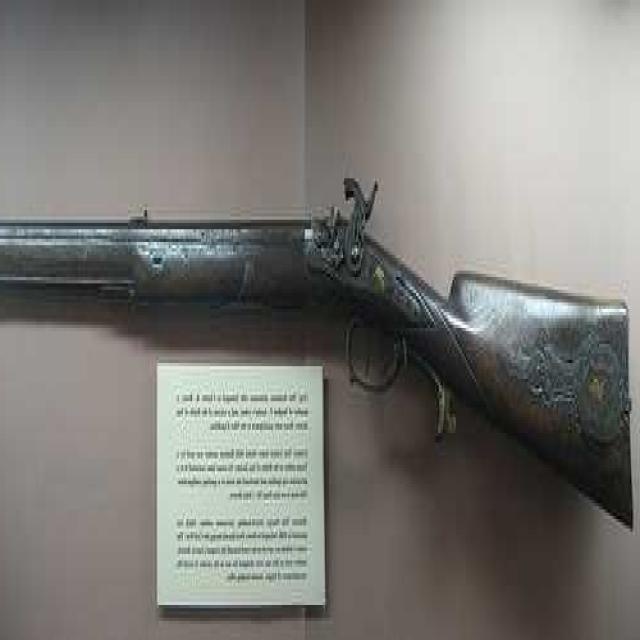heavyweapon: (75, 132, 640, 546)
